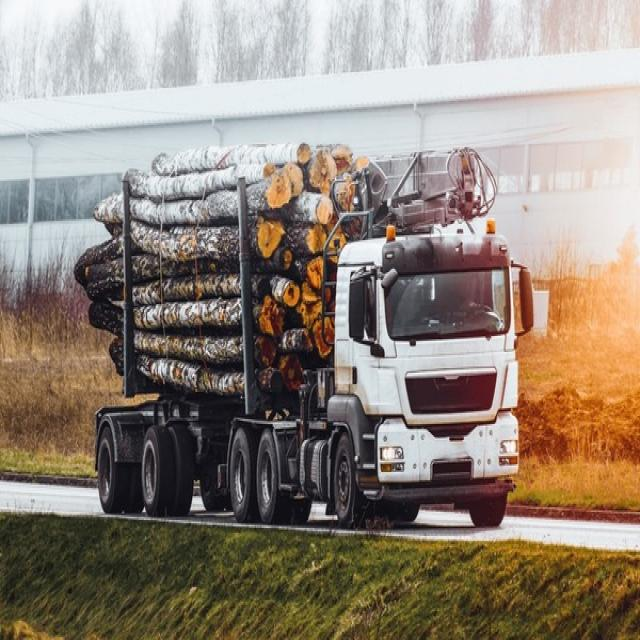Truck: (85, 142, 521, 527)
